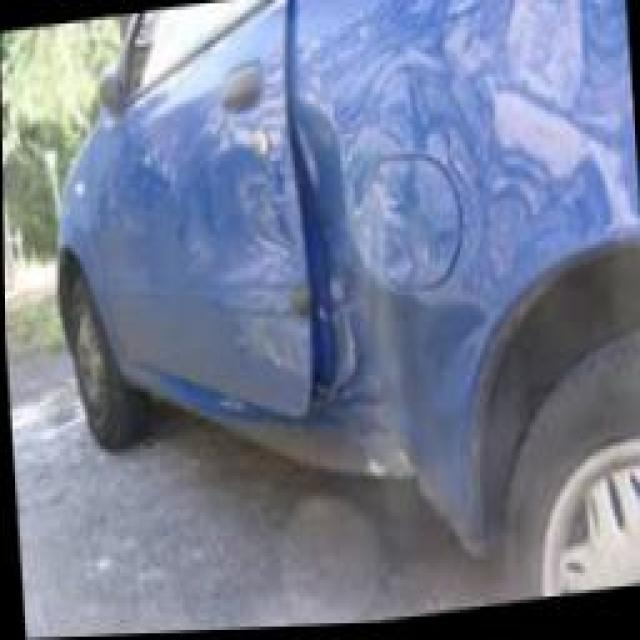rapairable: (262, 42, 381, 488)
